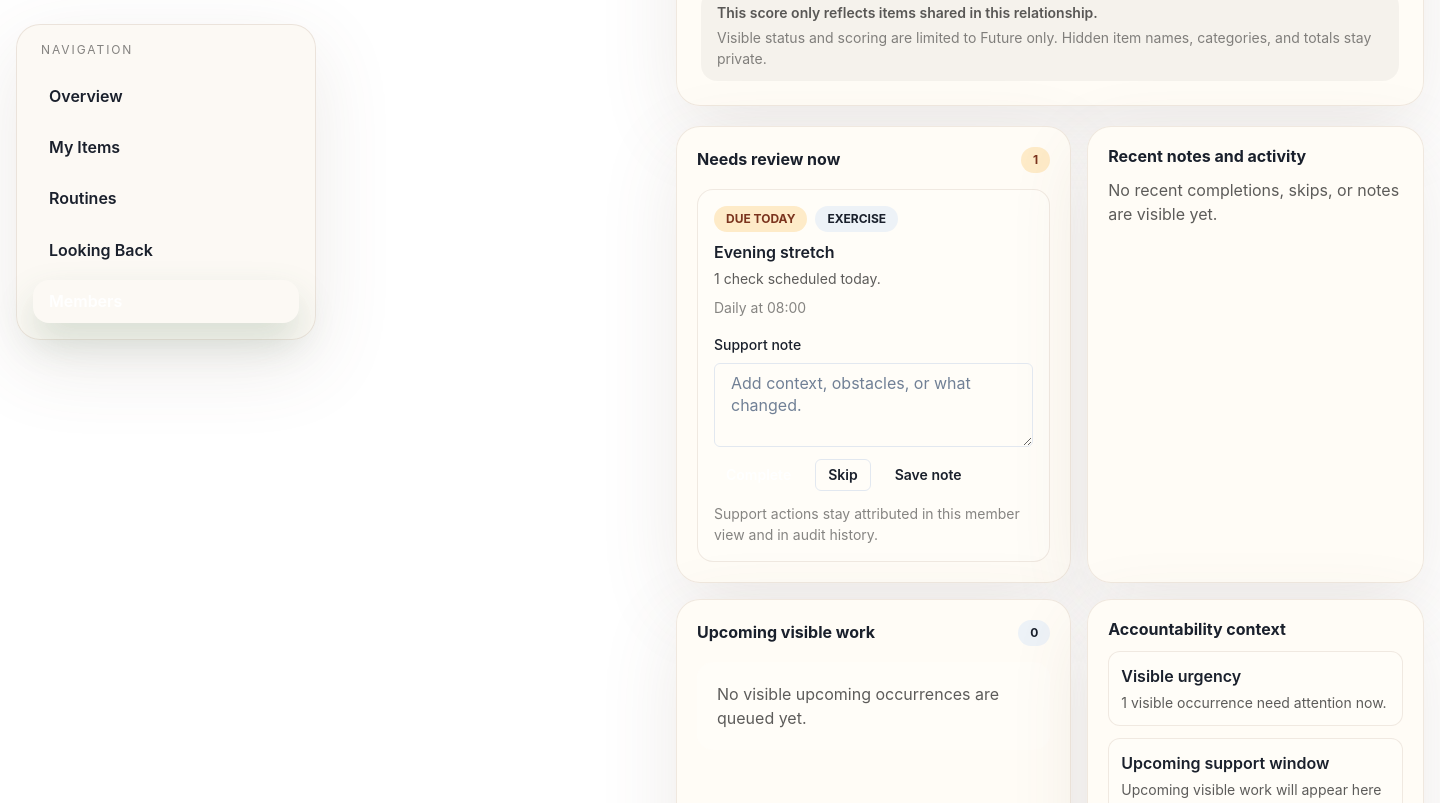
Test case: App routes › lets an active guide act on a member occurrence and shows the attribution afterward
This screenshot has width=1440, height=803.
(page scrolled)
Type "Guide follow-up note" into the text box named "Support note for Evening stretch" at (874, 405), box [714,363,1033,447]
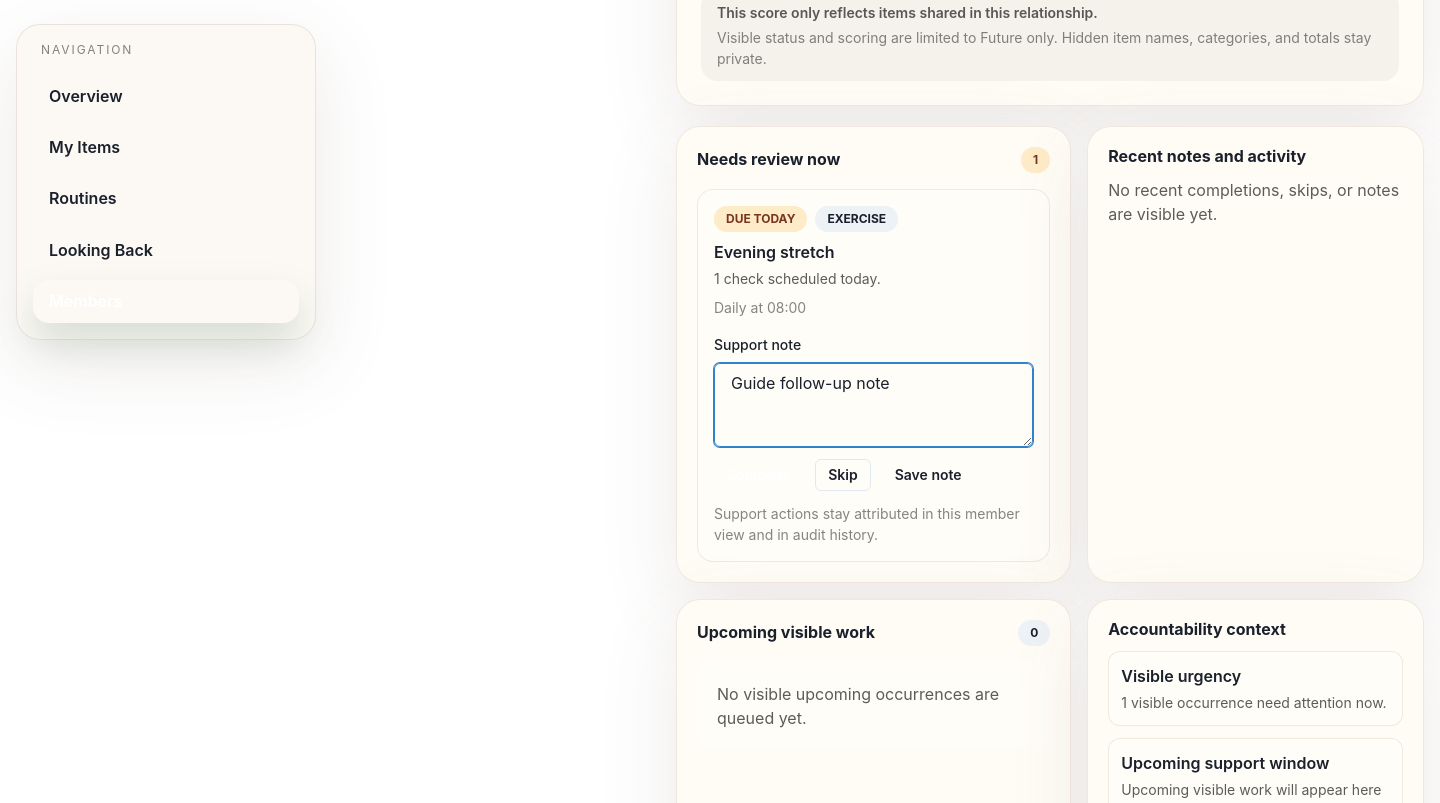
Click the button with aria-label "Save note for Evening stretch for u2" at (928, 475), box [883,459,974,491]
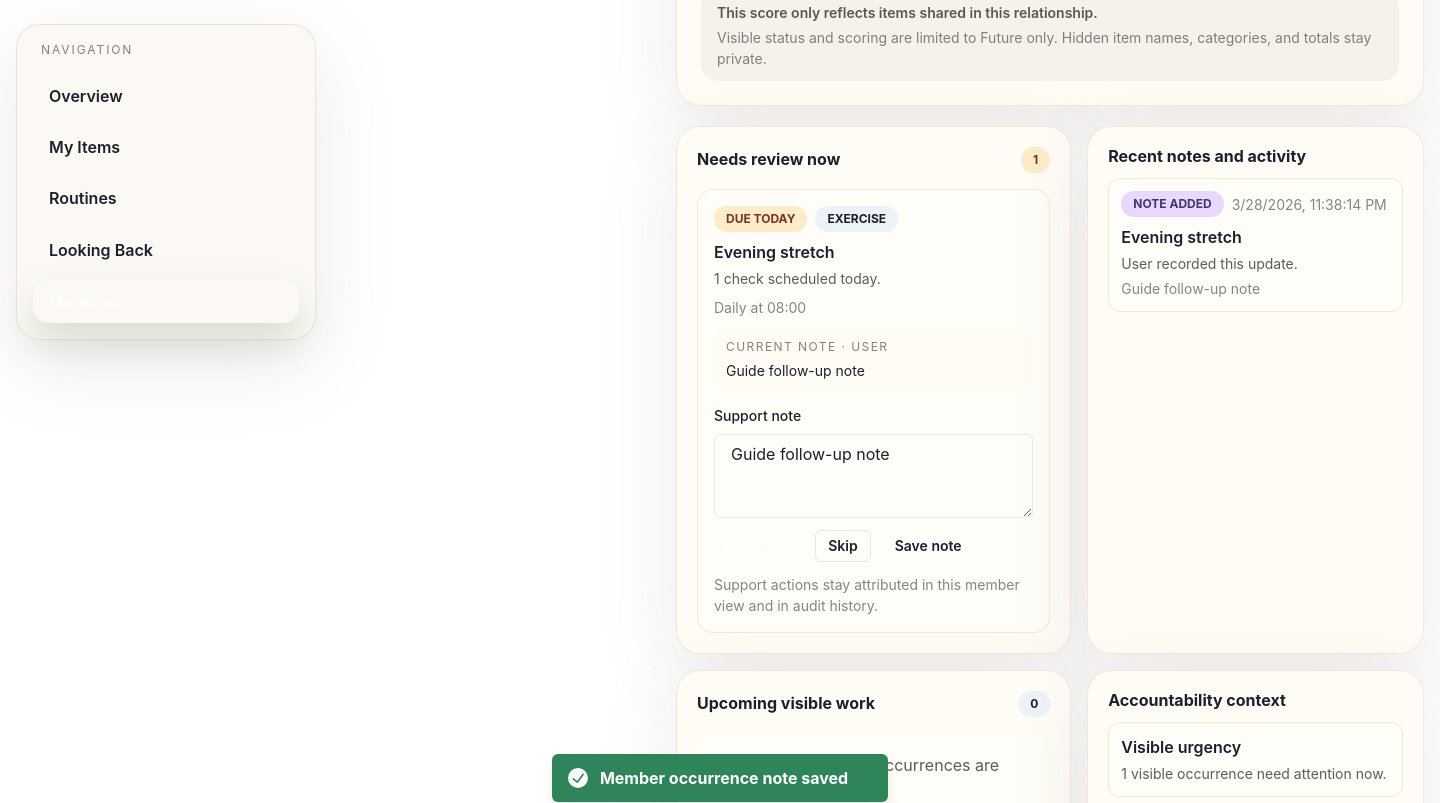
Now the text "Current note · User" is shown, box [726,339,888,354]
Now the text "Guide follow-up note" below "Current note" is shown, box [726,362,865,379]
Now the text "User recorded this update." is shown, box [1121,255,1298,272]
